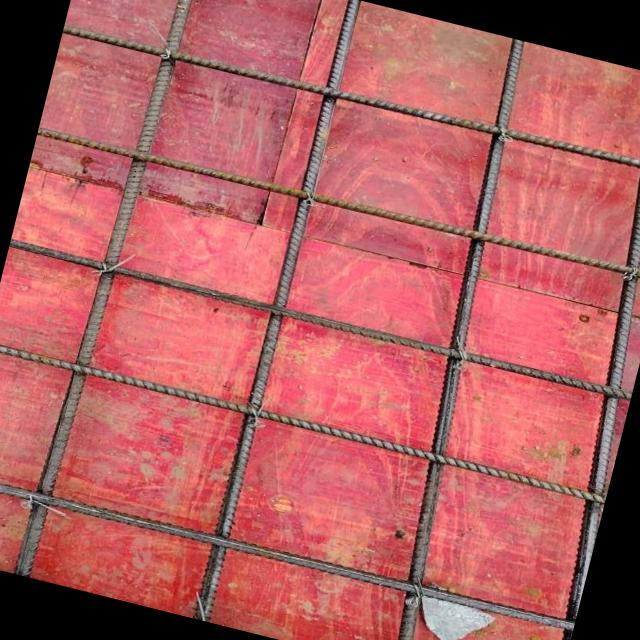ribbed bar: (354, 37, 561, 640), (12, 0, 204, 581), (189, 0, 361, 620), (36, 117, 640, 288), (9, 236, 632, 401), (61, 14, 640, 187), (0, 339, 605, 504), (0, 465, 574, 637), (500, 73, 640, 640)
